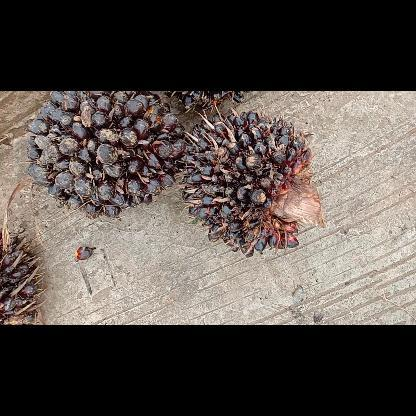TBS mentah: (182, 112, 332, 256), (25, 91, 184, 221)
